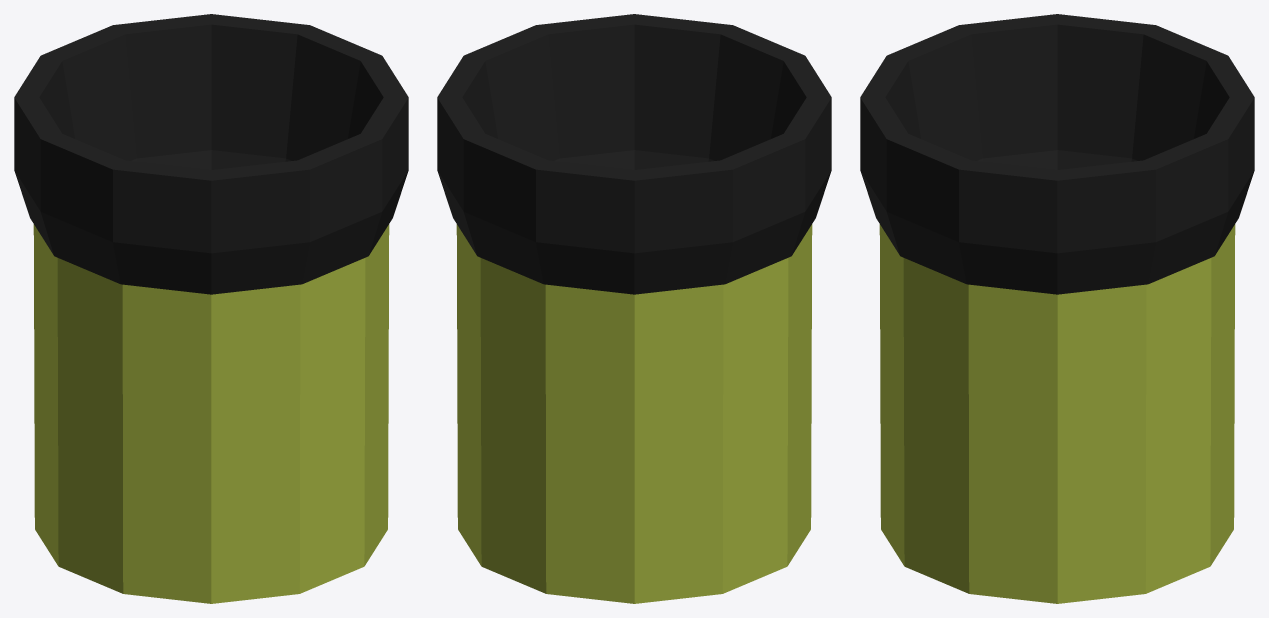
File: Trashbin.fbx
3 renders of one model, left to right at view 1: azimuth 30°, elevation 25°; view 2: azimuth 150°, elevation 25°; view 3: azimuth 270°, elevation 25°, orthographic.
Parts seen in each view (by area): view 1: Trashbin; view 2: Trashbin; view 3: Trashbin.
Part boxes in pixels (x1=…): Trashbin: x1=14, y1=14, x2=408, y2=603; Trashbin: x1=437, y1=14, x2=831, y2=603; Trashbin: x1=860, y1=14, x2=1254, y2=603.
Bounding box in the file's own units: 30.5 × 36.85 × 30.5.
